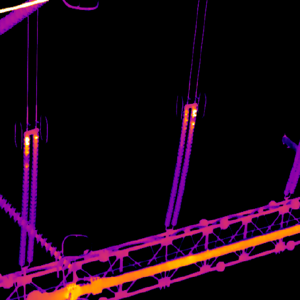insulator: (0, 194, 71, 268), (164, 103, 197, 227), (19, 128, 37, 265), (283, 145, 300, 194)
